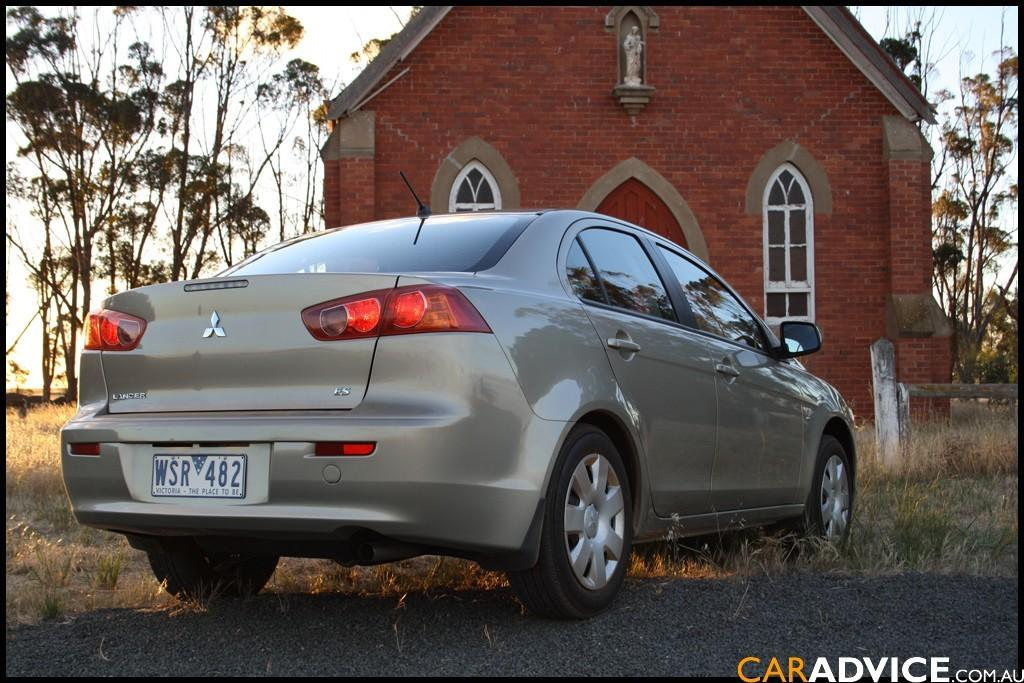Mitsubishi: (193, 306, 232, 344)
